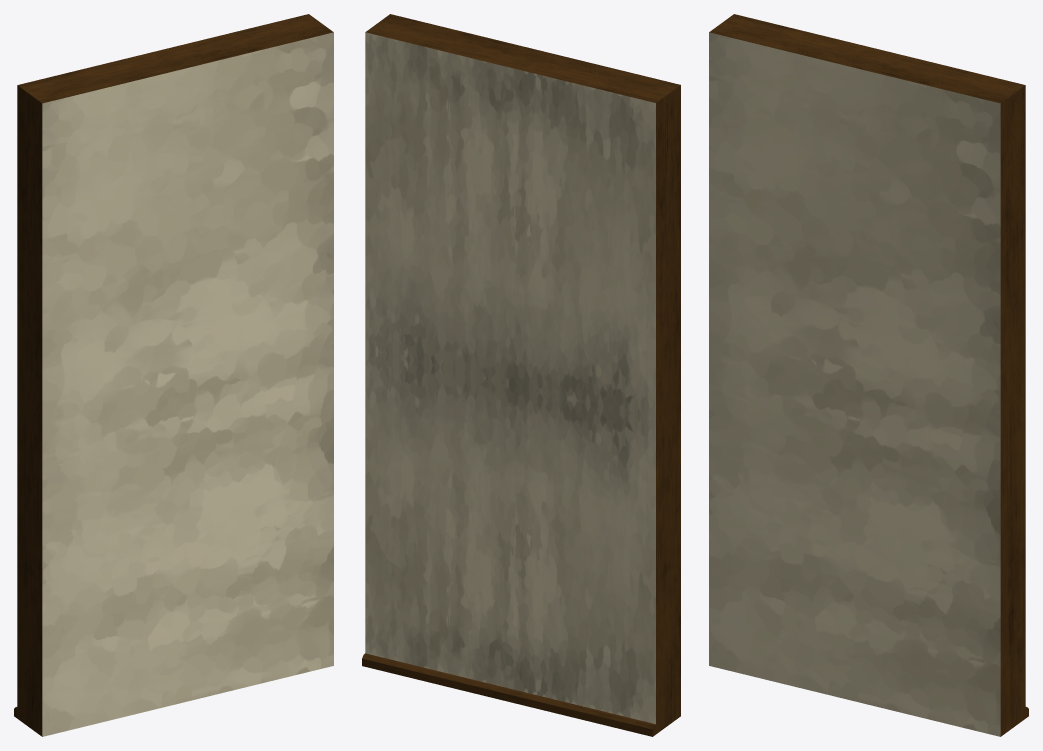
Rendered from Tall_Wall.fbx.
3 renders of one model, left to right at view 1: azimuth 30°, elevation 25°; view 2: azimuth 150°, elevation 25°; view 3: azimuth 330°, elevation 25°, orthographic.
Parts seen in each view (by area): view 1: TallWall; view 2: TallWall; view 3: TallWall.
Boxes of the visible parts, x1,y1,x2,y2 form: TallWall: (14, 14, 333, 736); TallWall: (362, 14, 680, 736); TallWall: (709, 14, 1028, 736).
Size of the model in its own units: 261 by 542 by 43.84.
